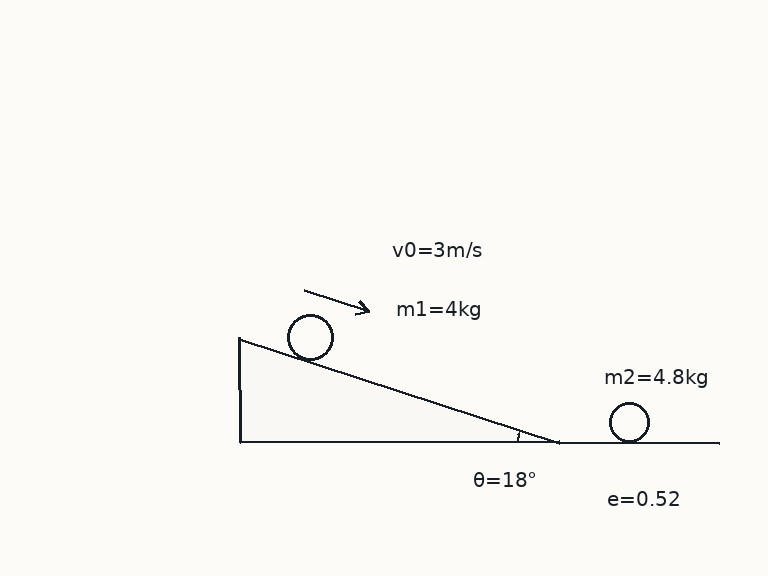ball: (285, 312, 335, 362), (607, 400, 651, 444)
ramp: (238, 337, 560, 444)
